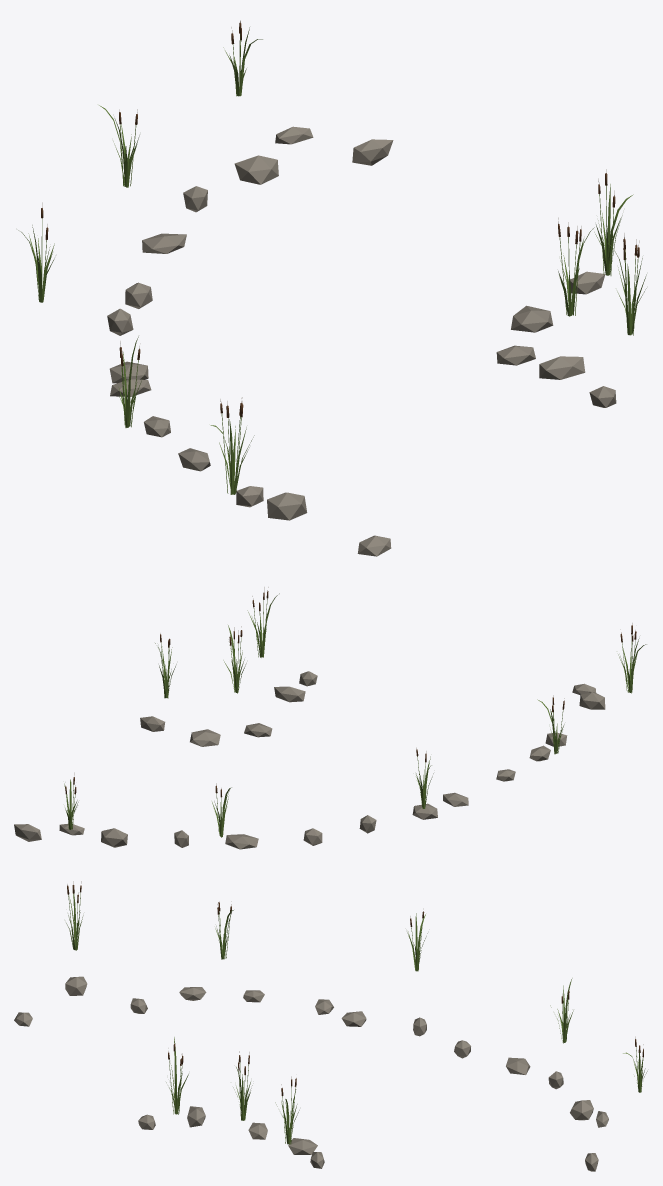
File: river_bend_60_center.glb
3 views of the same model, one above another, from view 1: azimuth 30°, elevation 25°; view 2: azimuth 150°, elevation 25°; view 3: azimuth 270°, elevation 25° (orthographic). The views are drawn at different scales.
Visible parts, largest first — view 1: river_bend_60_center_lod0; view 2: river_bend_60_center_lod0; view 3: river_bend_60_center_lod0.
Part boxes in pixels (box(x1,y1,x2,y2)): river_bend_60_center_lod0: box(18, 20, 646, 556); river_bend_60_center_lod0: box(14, 587, 646, 849); river_bend_60_center_lod0: box(14, 881, 647, 1171).
Size of what is drawn, in the model's own units: 12.89 by 3.67 by 17.79.
